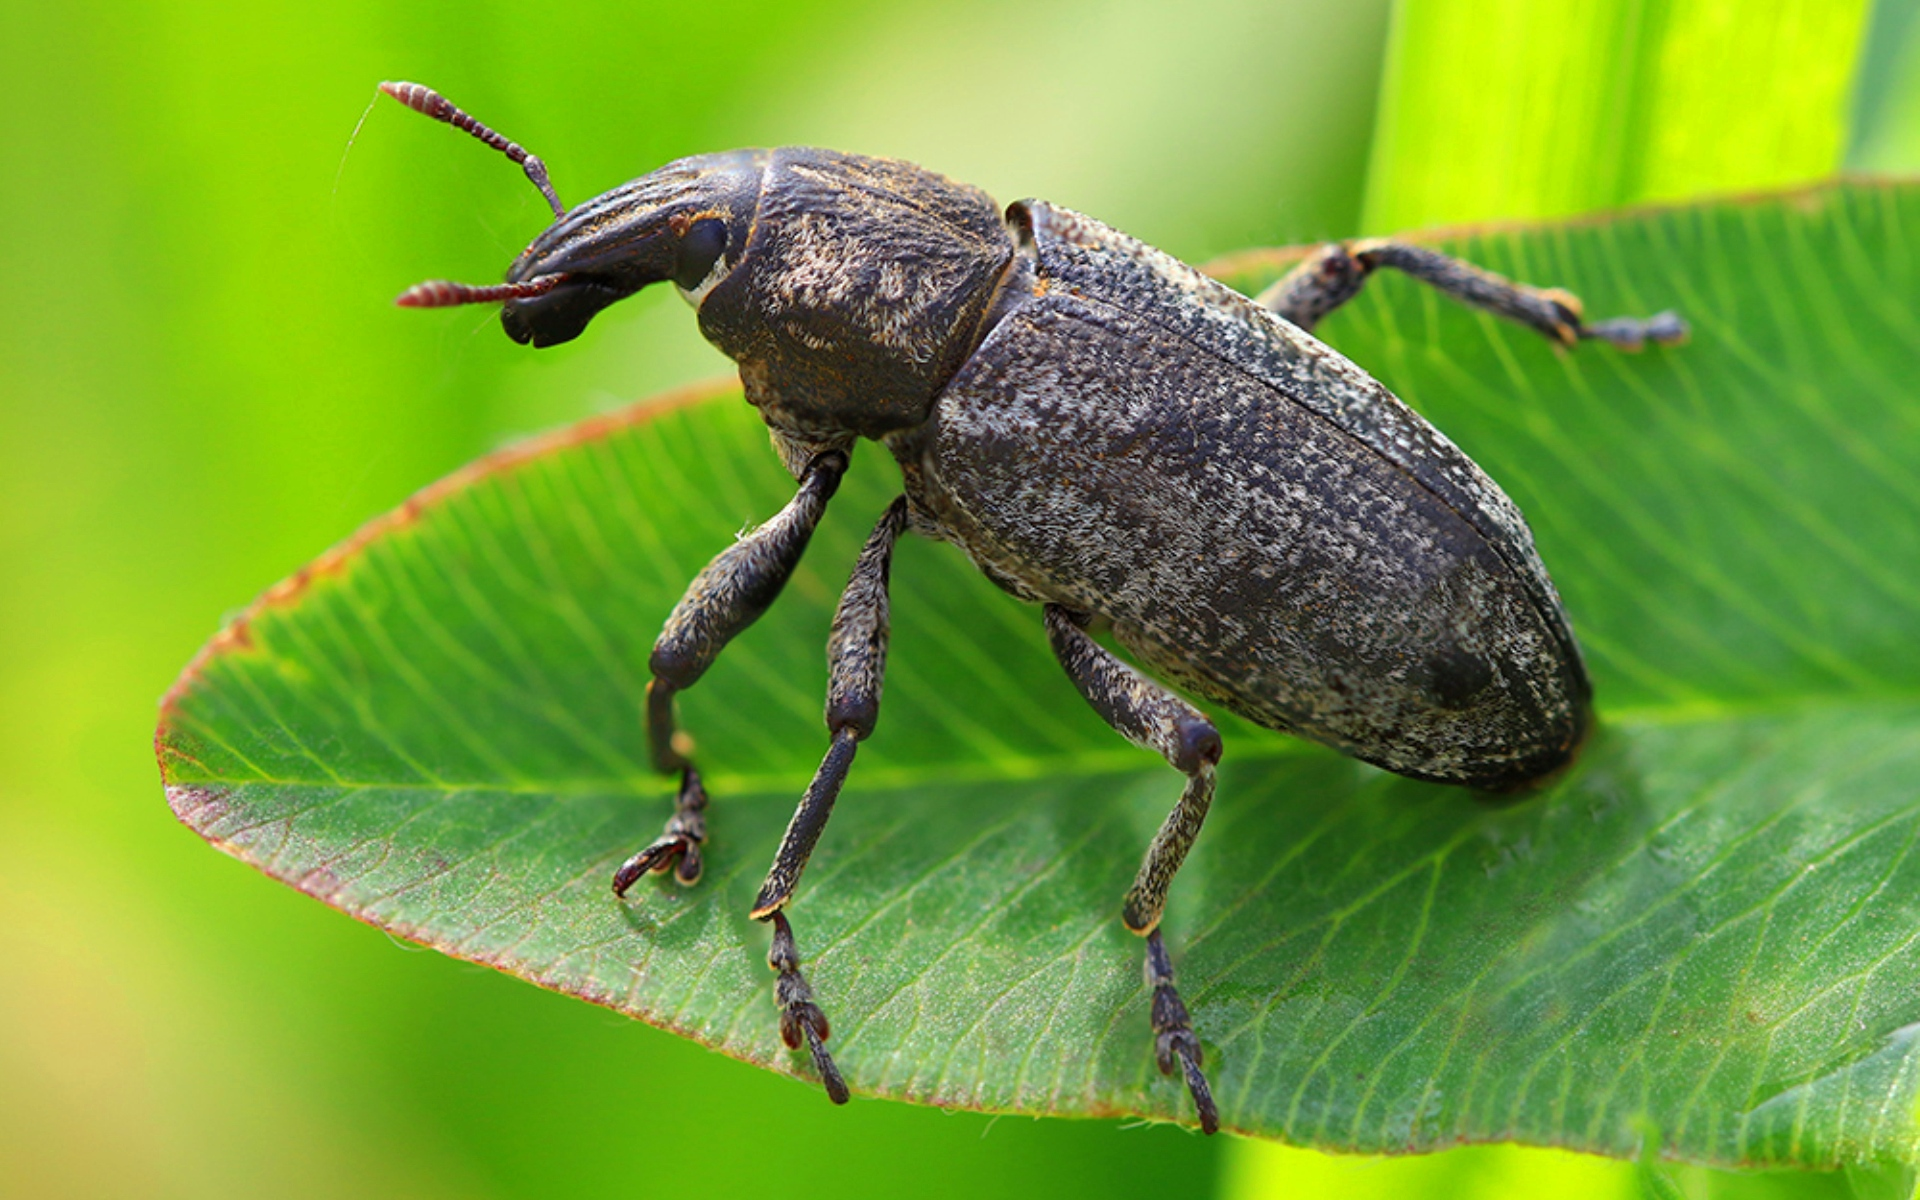dolgonosik: (347, 72, 1711, 1127)
